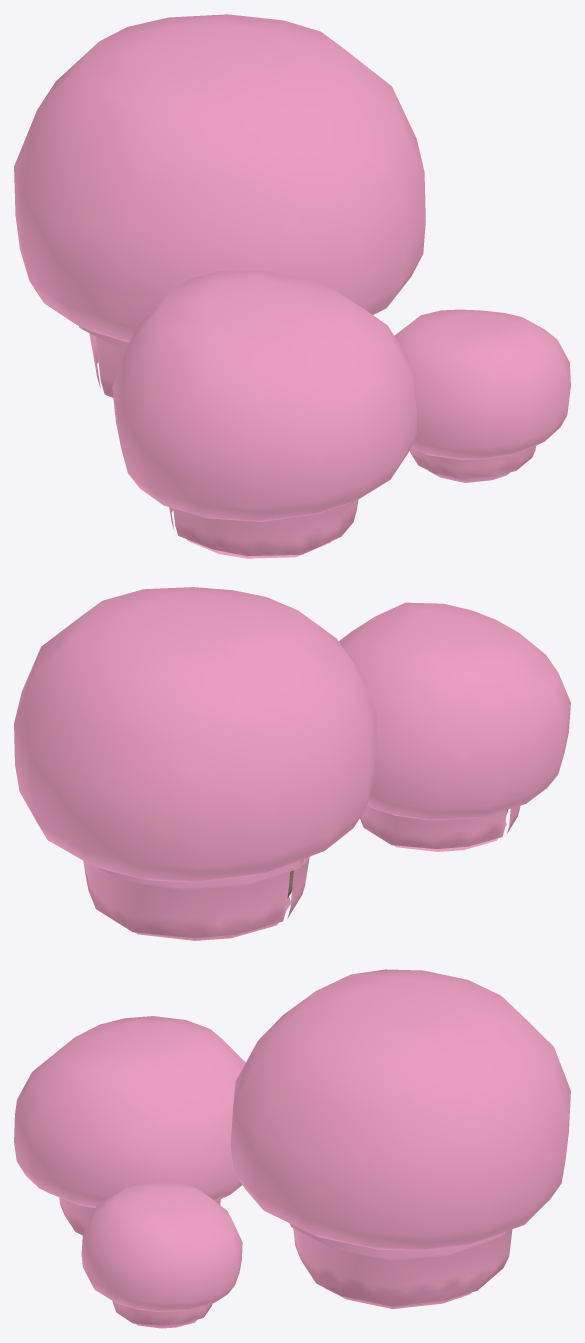
File: houba_hliva_ruzova_svitici.glb
The picture shows the model from 3 angles, top to bottom: view 1: azimuth 30°, elevation 25°; view 2: azimuth 150°, elevation 25°; view 3: azimuth 270°, elevation 25°; orthographic projection. The views are drawn at different scales.
Parts seen in each view (by area): view 1: noc; view 2: noc; view 3: noc.
Part boxes in pixels (x1,y1,x2,y2): noc: [14, 14, 570, 558]; noc: [14, 587, 570, 940]; noc: [14, 969, 570, 1328].
Size of the model in its own units: 0.0793 by 0.057 by 0.1066.
Materials: 2 (2 with a texture image).
